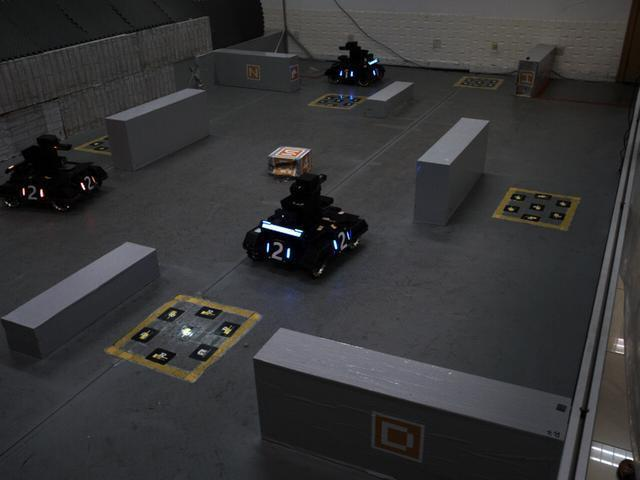armor: (261, 234, 294, 268), (328, 225, 356, 258), (16, 182, 47, 206), (72, 172, 103, 194), (335, 64, 358, 81)
